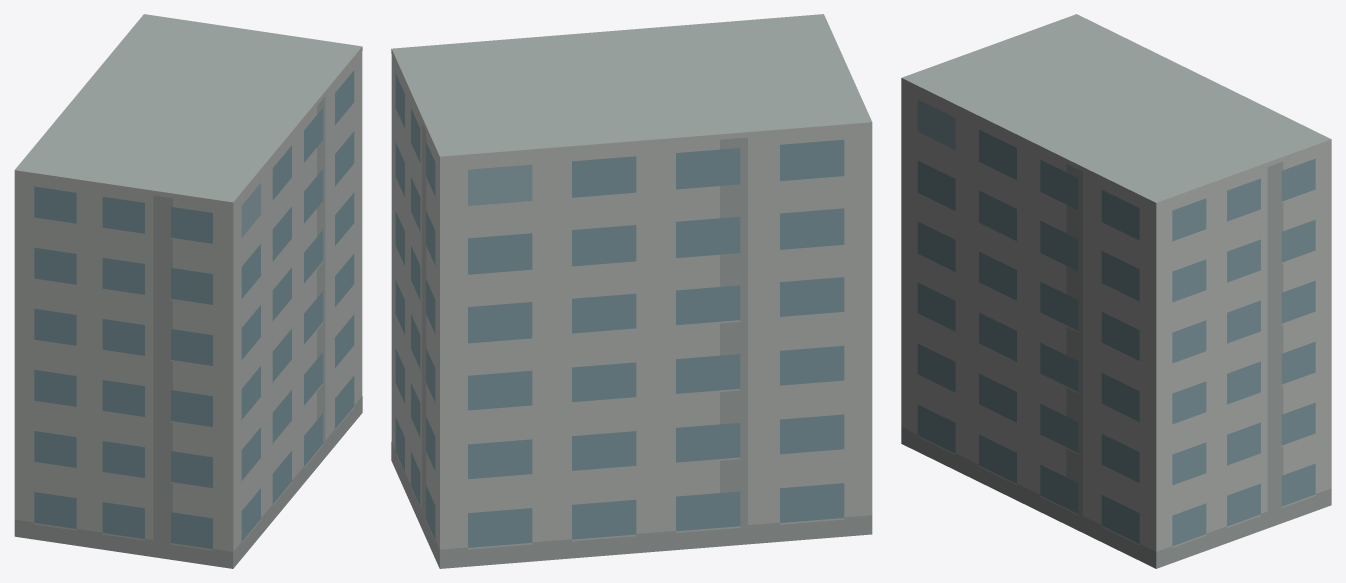
File: residential-8850f277-09cd-4d55-b73f-9c5493dd777b.glb
The picture shows the model from 3 angles, left to right: view 1: azimuth 30°, elevation 25°; view 2: azimuth 150°, elevation 25°; view 3: azimuth 270°, elevation 25°; orthographic projection. The views are drawn at different scales.
Visible parts, largest first — view 1: residential-8850f277-09cd-4d55-b73f-9c5493dd777b.tmp; view 2: residential-8850f277-09cd-4d55-b73f-9c5493dd777b.tmp; view 3: residential-8850f277-09cd-4d55-b73f-9c5493dd777b.tmp.
Part boxes in pixels (x1,y1,x2,y2): residential-8850f277-09cd-4d55-b73f-9c5493dd777b.tmp: (14,14,362,568); residential-8850f277-09cd-4d55-b73f-9c5493dd777b.tmp: (391,14,872,568); residential-8850f277-09cd-4d55-b73f-9c5493dd777b.tmp: (901,14,1331,568).
Size of the model in its own units: 21.04 by 19 by 20.25.
